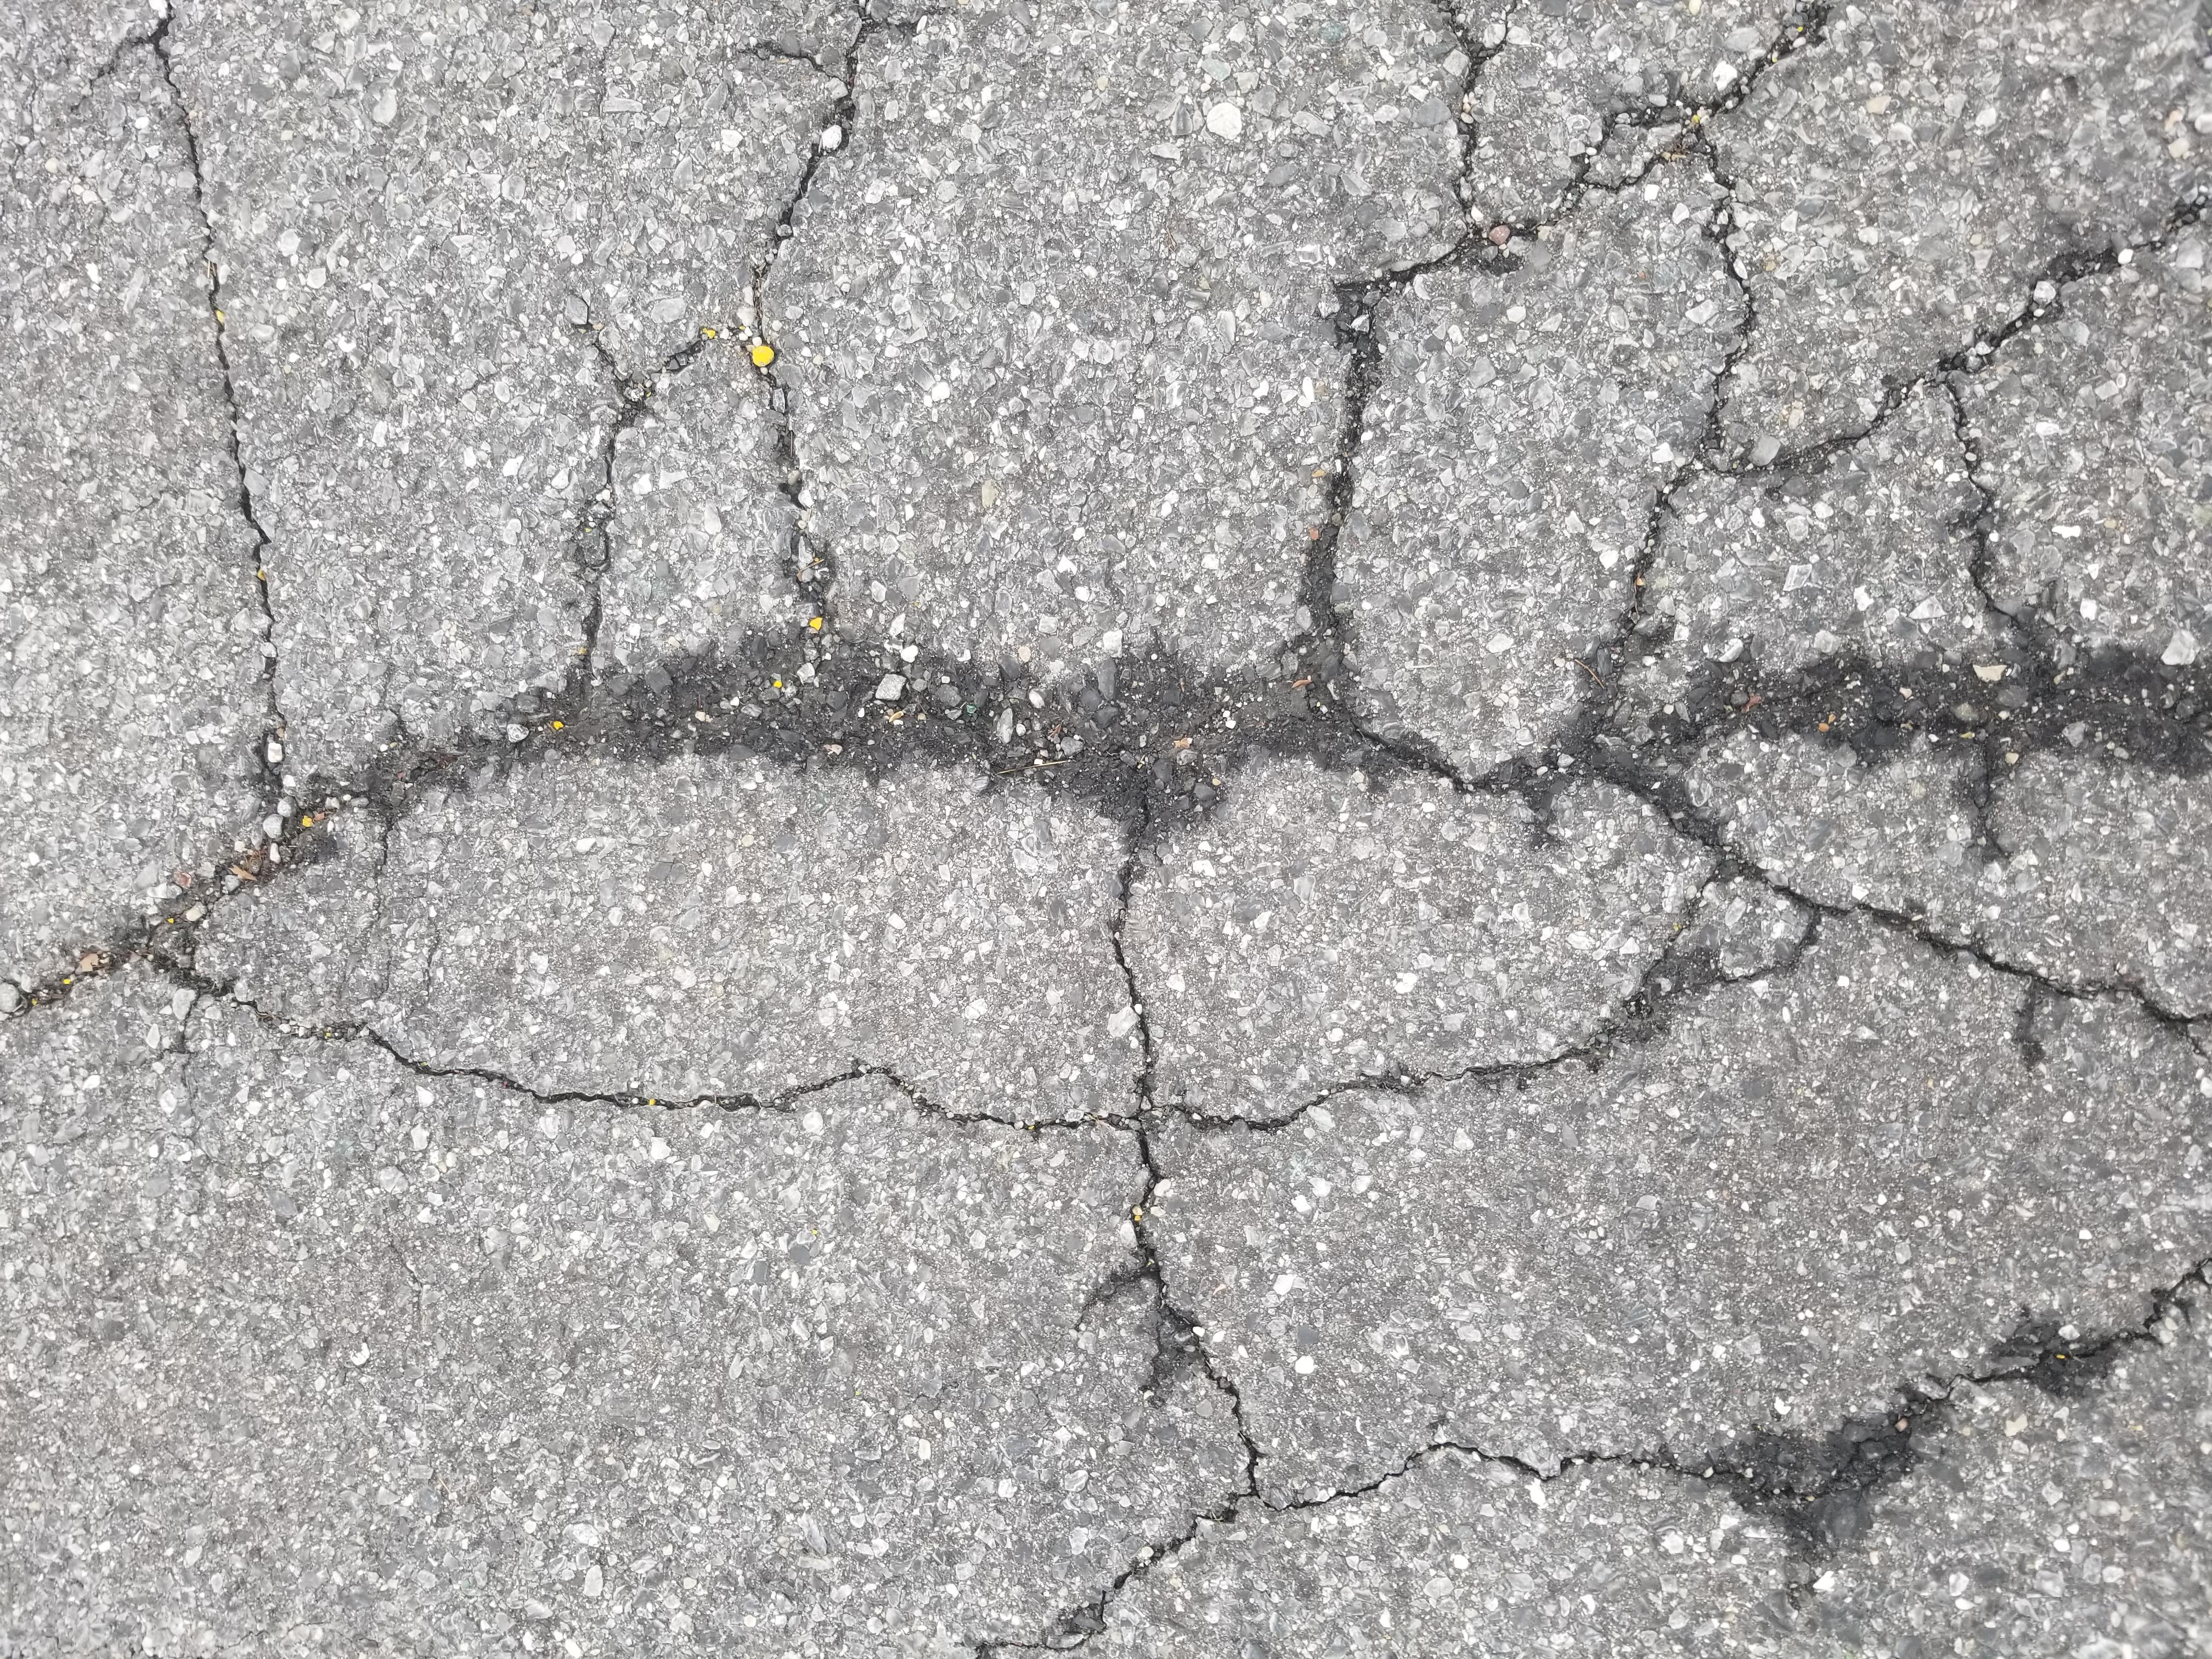alligator-crack: (113, 28, 2172, 1643)
